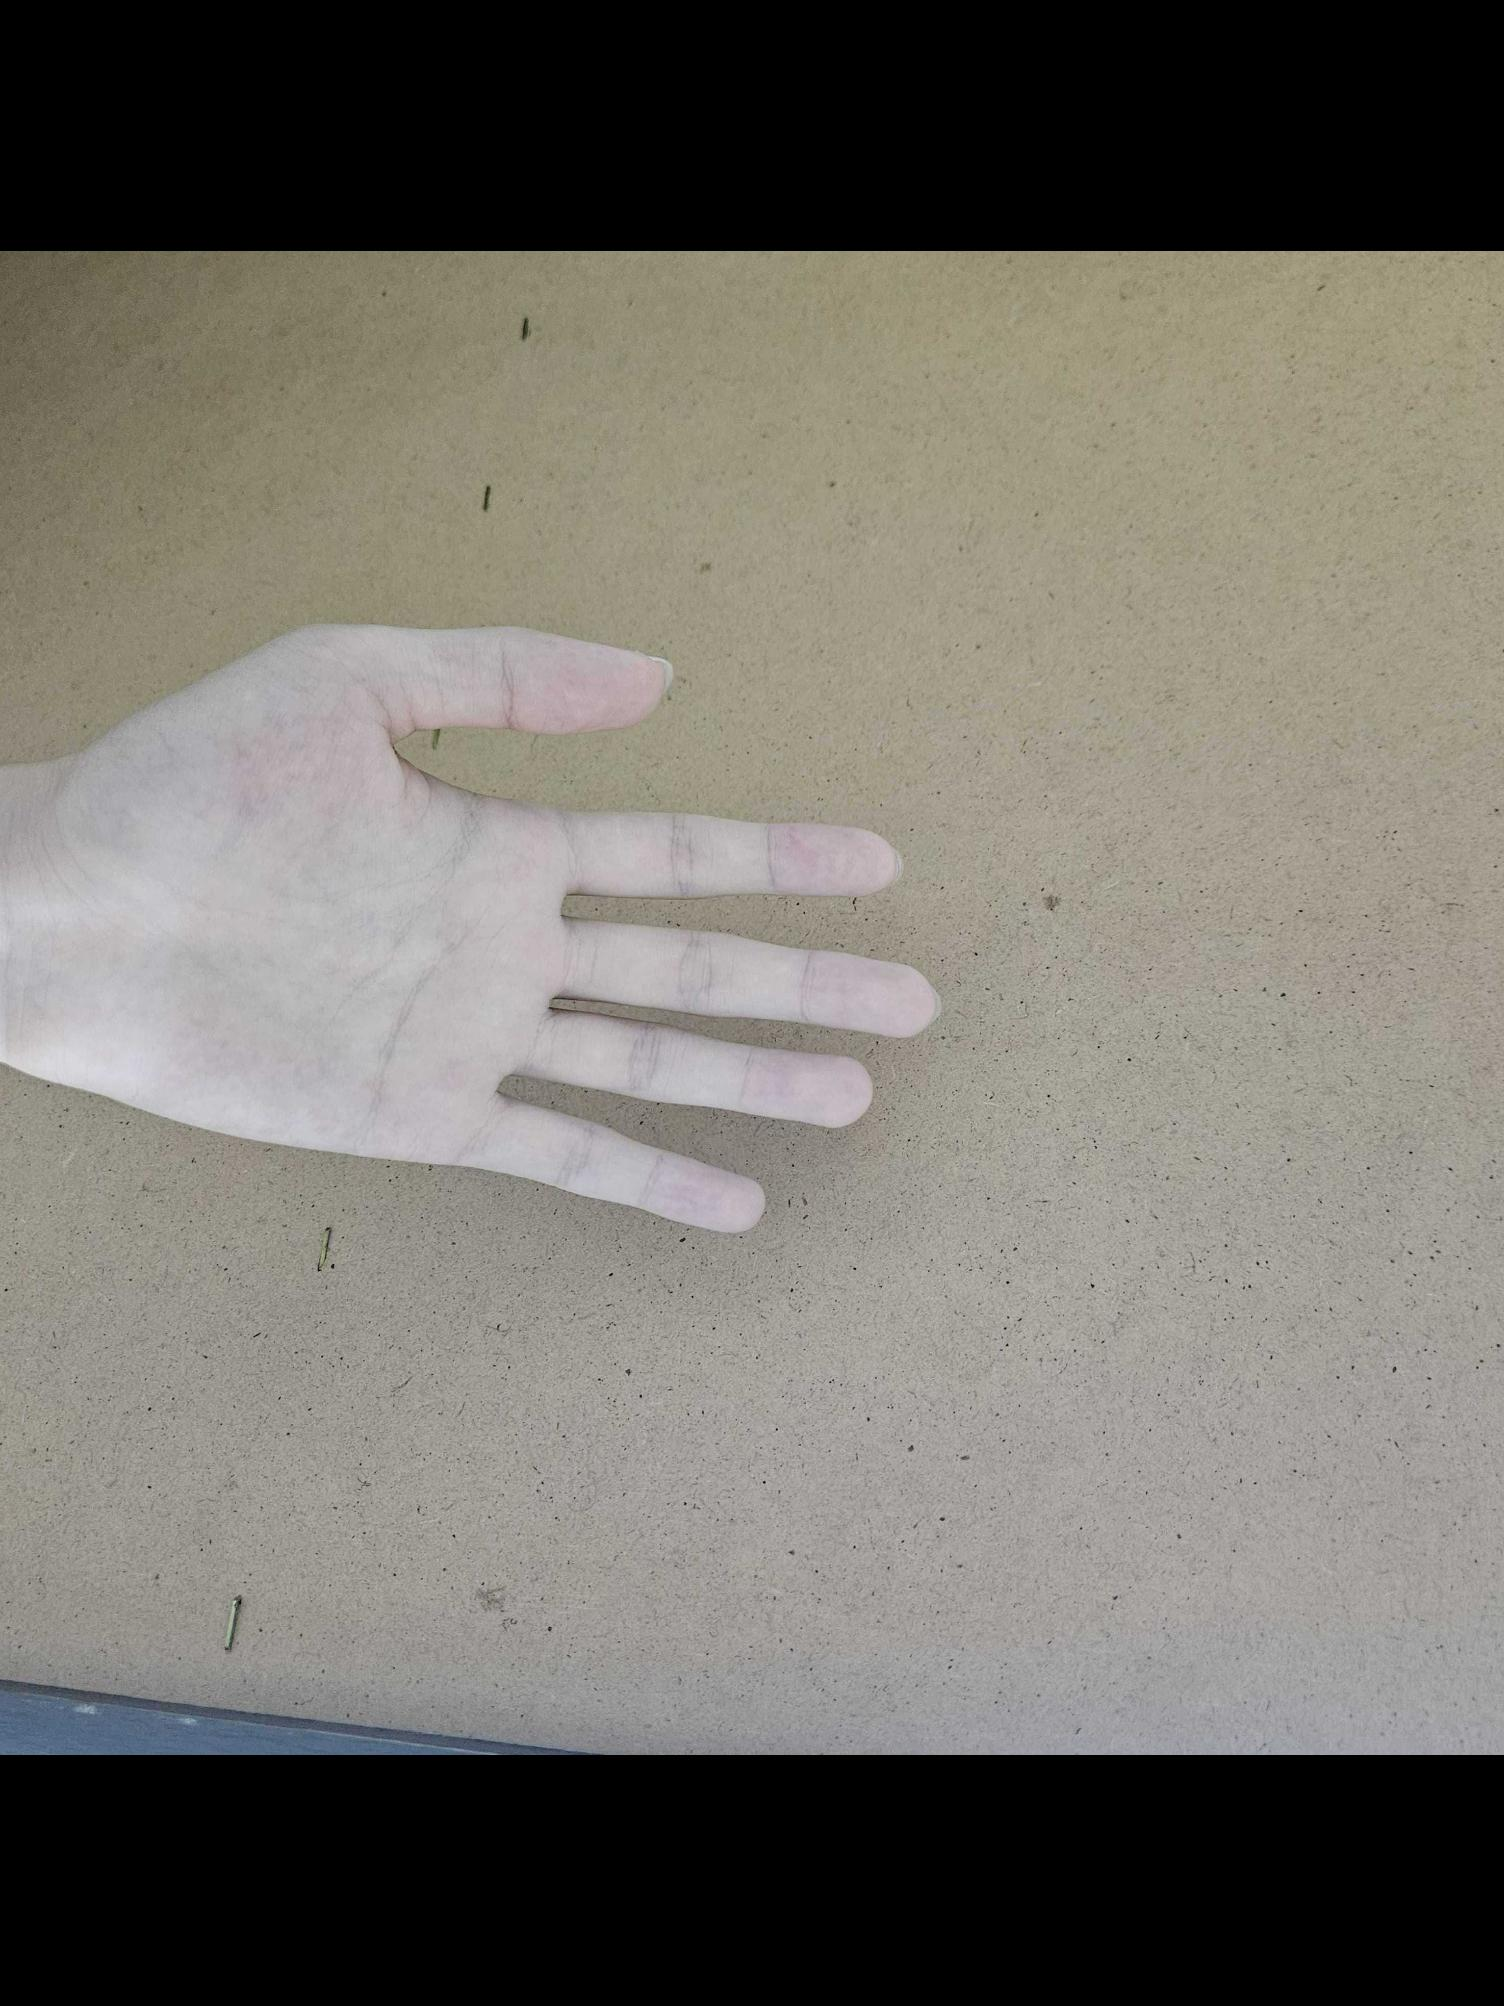open: (0, 608, 949, 1243)
